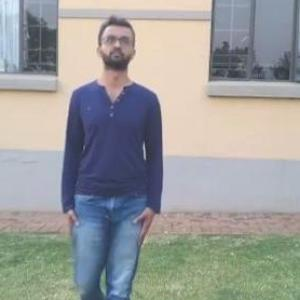follow: (59, 11, 166, 299)
